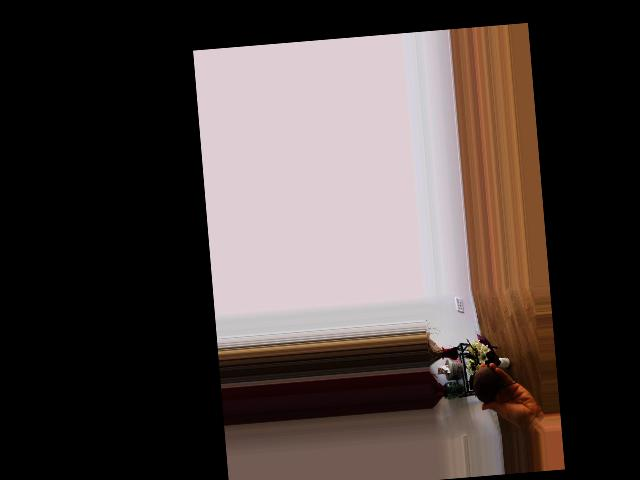beet: (468, 363, 519, 403)
